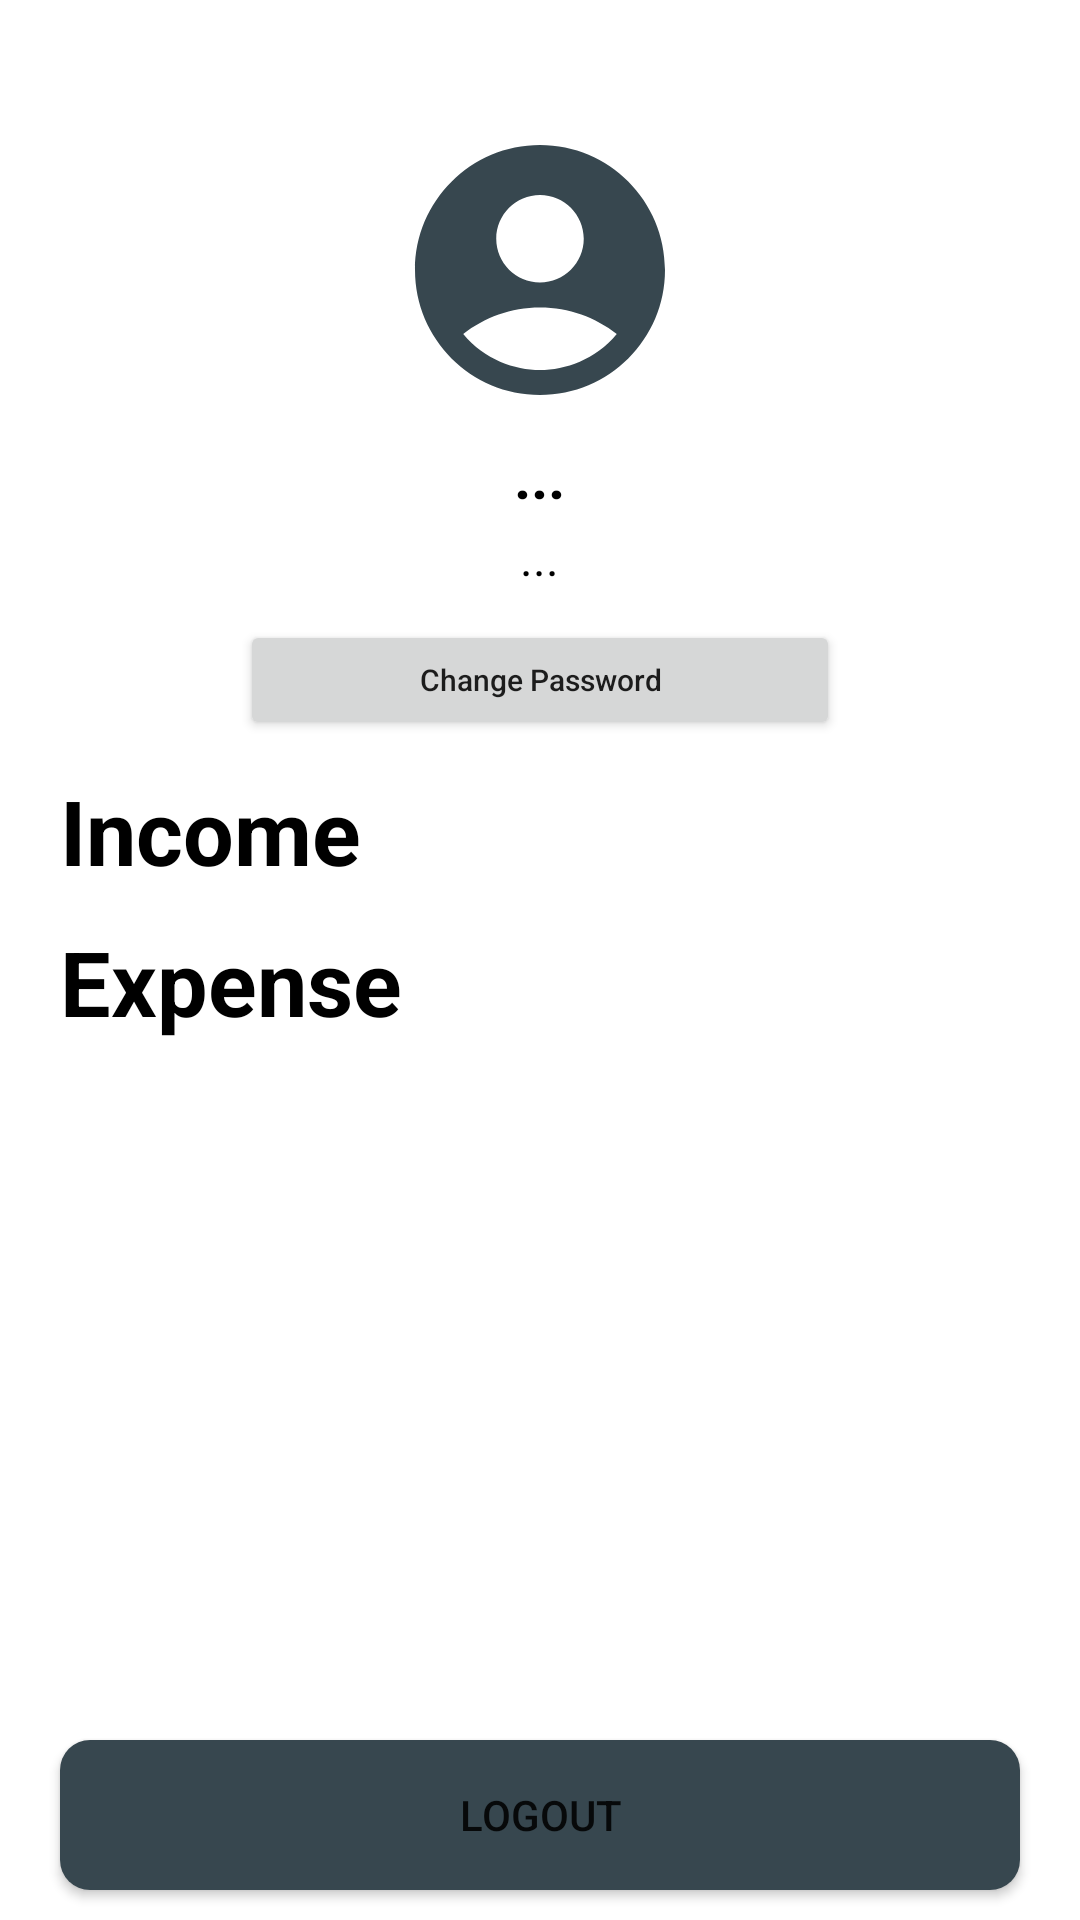

Screen size 1080px×1920px. Icon name, then its box in pixels as (x1, y1, x2, y2):
user: (415, 145, 665, 395)
